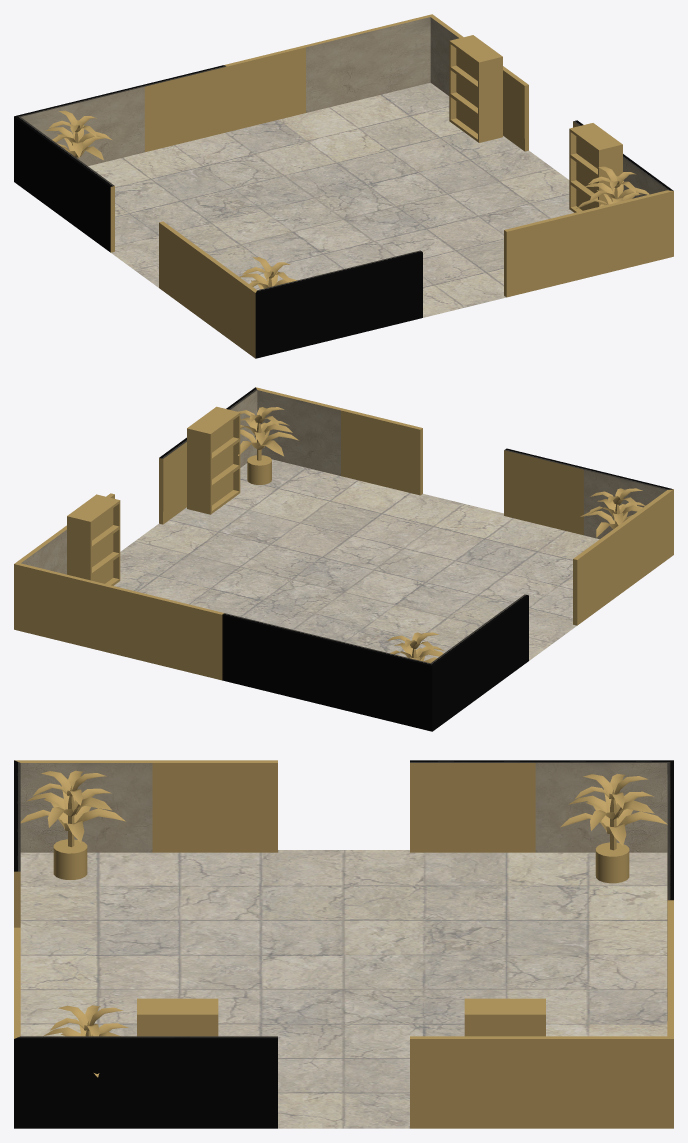
Rendered from Room_2Exit03_Type02.fbx.
3 views of the same model, one above another, from view 1: azimuth 30°, elevation 25°; view 2: azimuth 150°, elevation 25°; view 3: azimuth 270°, elevation 25° (orthographic). The views are drawn at different scales.
Parts seen in each view (by area): view 1: Room1x1_3Exits5, BookShelf062, BookShelf063, Plant015, Plant012, Plant014; view 2: Room1x1_3Exits5, BookShelf063, BookShelf062, Plant012, Plant014, Plant015; view 3: Room1x1_3Exits5, Plant015, Plant014, BookShelf062, BookShelf063, Plant012.
Part boxes in pixels (x1,y1,x2,y2): Room1x1_3Exits5: (14, 14, 673, 358); BookShelf062: (449, 35, 502, 142); BookShelf063: (569, 123, 622, 212); Plant015: (44, 110, 111, 160); Plant012: (576, 166, 649, 208); Plant014: (240, 257, 296, 289); Room1x1_3Exits5: (14, 387, 673, 731); BookShelf063: (187, 406, 240, 514); BookShelf062: (67, 494, 120, 585); Plant012: (238, 407, 298, 484); Plant014: (580, 488, 645, 537); Plant015: (387, 632, 444, 663); Room1x1_3Exits5: (14, 760, 673, 1128); Plant015: (560, 773, 667, 883); Plant014: (20, 770, 125, 879); BookShelf062: (464, 998, 545, 1036); BookShelf063: (137, 998, 218, 1036); Plant012: (43, 1005, 128, 1077).
Size of the model in its own units: 10.08 by 1.84 by 10.
